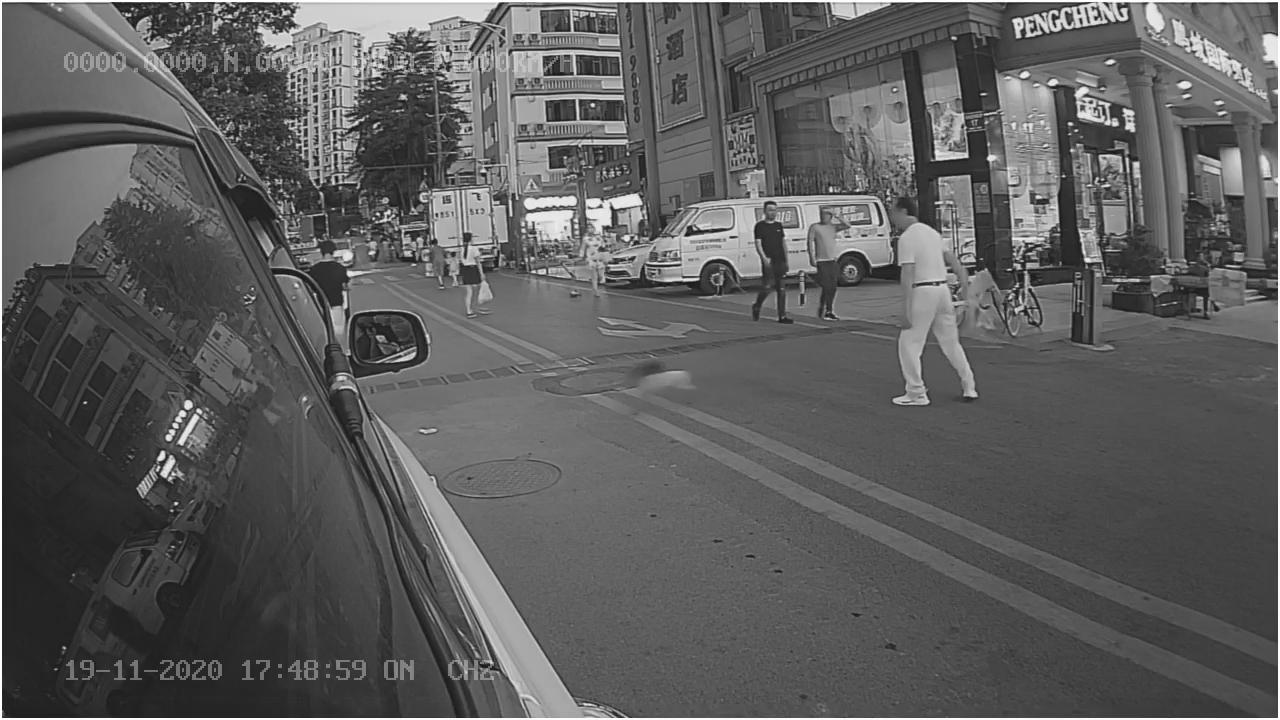person: (879, 198, 987, 420)
